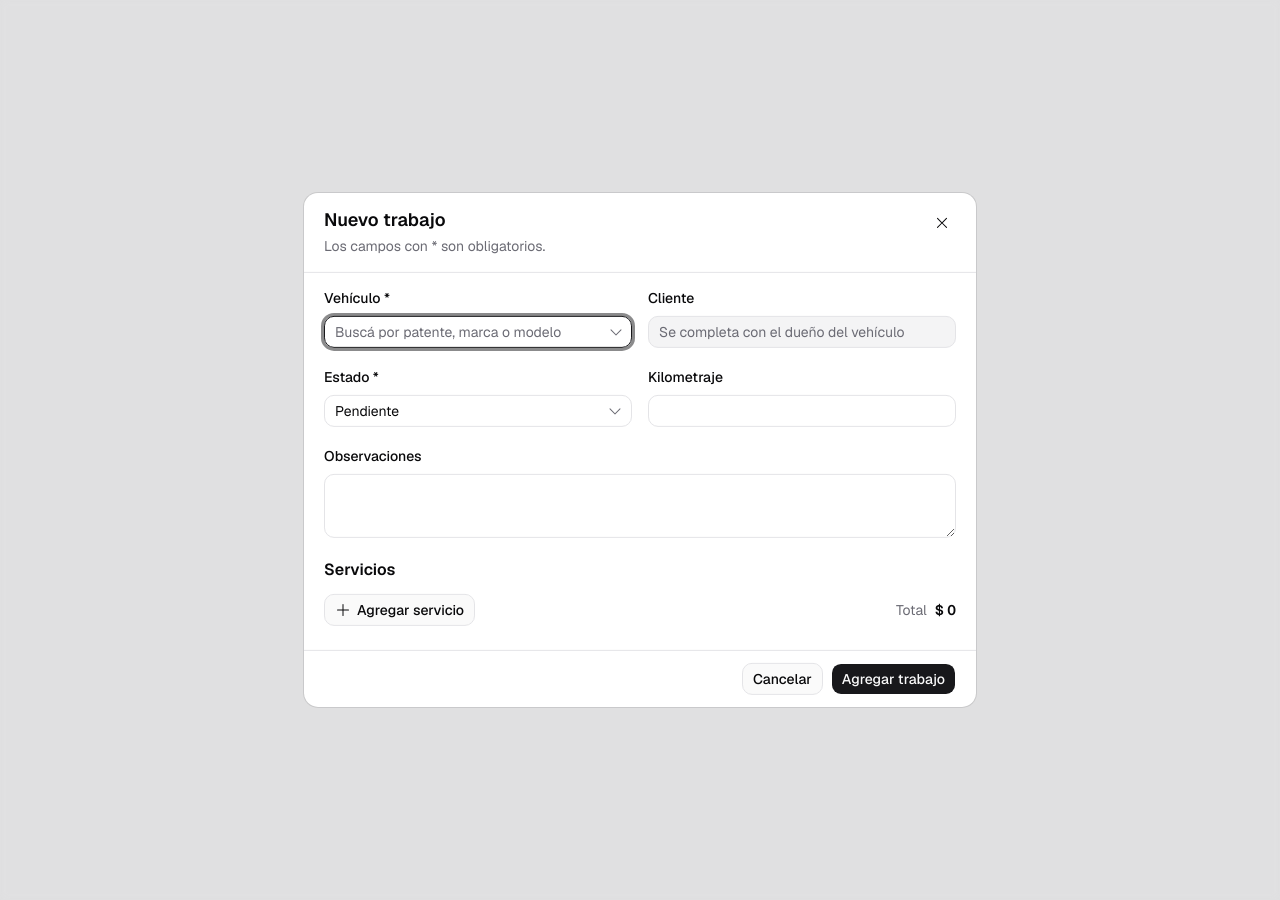
Test: new job form › vehicle › lists the vehicle with its plate in grey and shows both once chosen
The image size is (1280, 900).
Step 1. Type "ae" into the dropdown labelled "Vehículo *" → (464, 332), box [325,316,604,348]
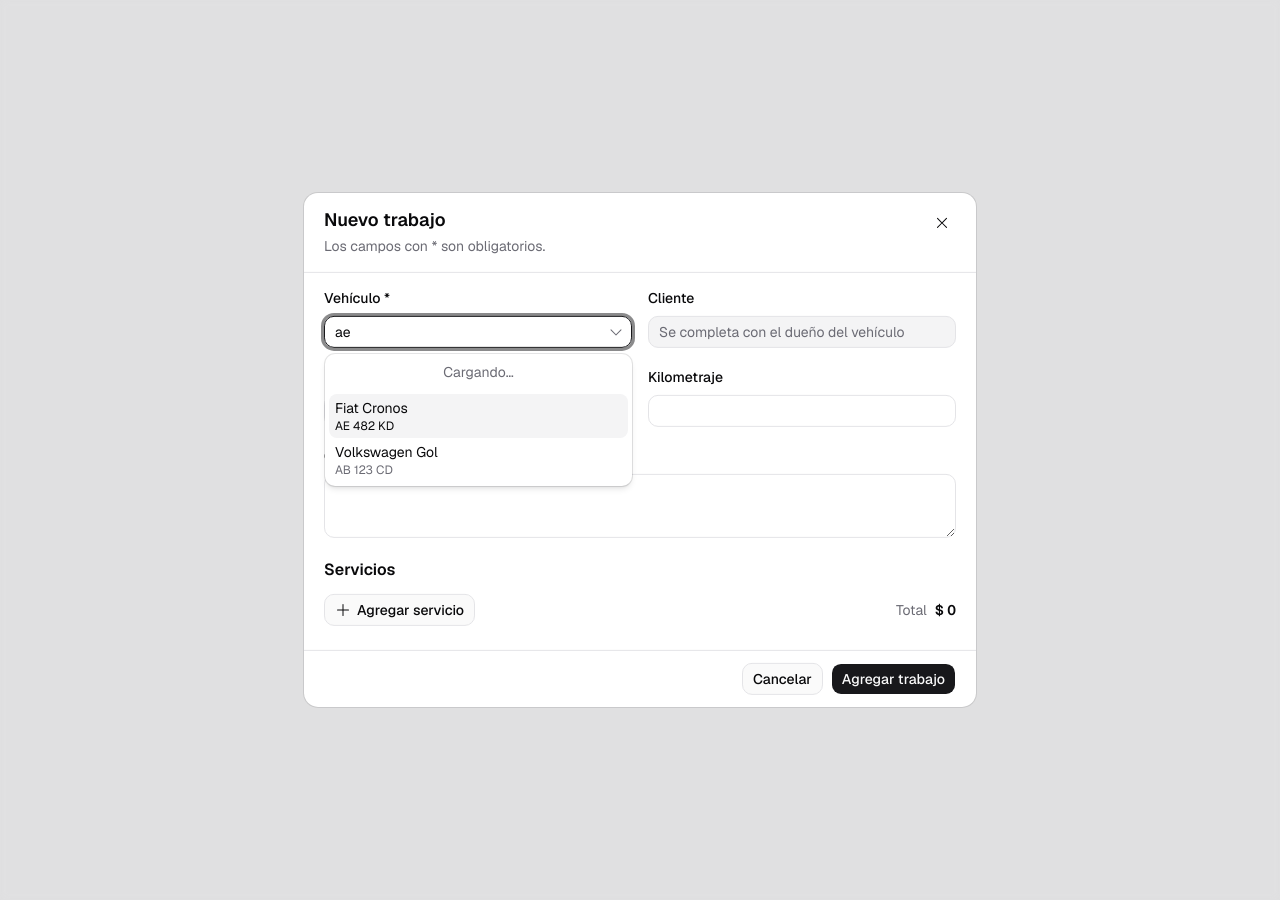
Step 2. Click the option "Fiat Cronos AE 482 KD" → (371, 408), box [329,394,628,438]
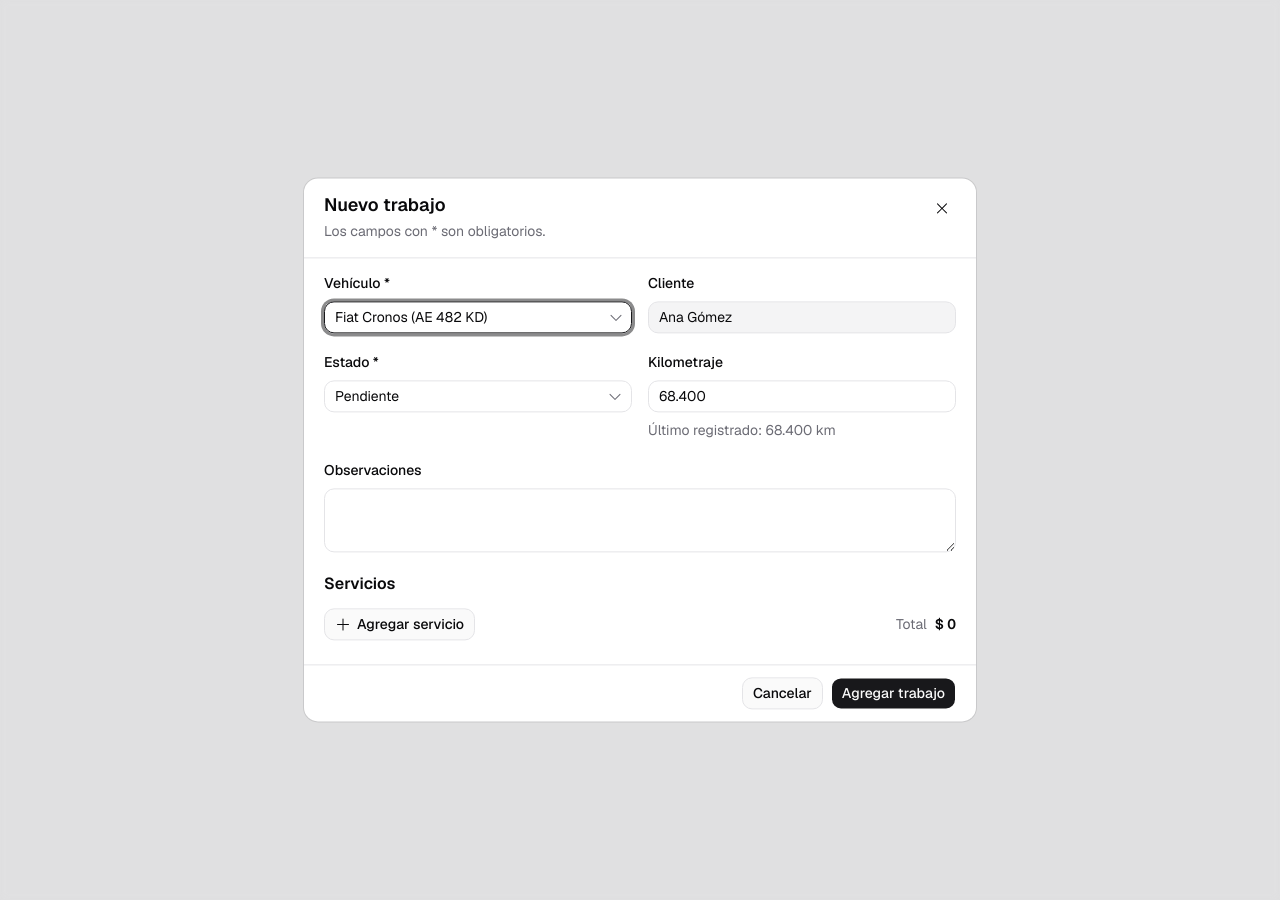
Check: the dropdown labelled "Vehículo *" holds "Fiat Cronos (AE 482 KD)", box [325,301,604,333]
